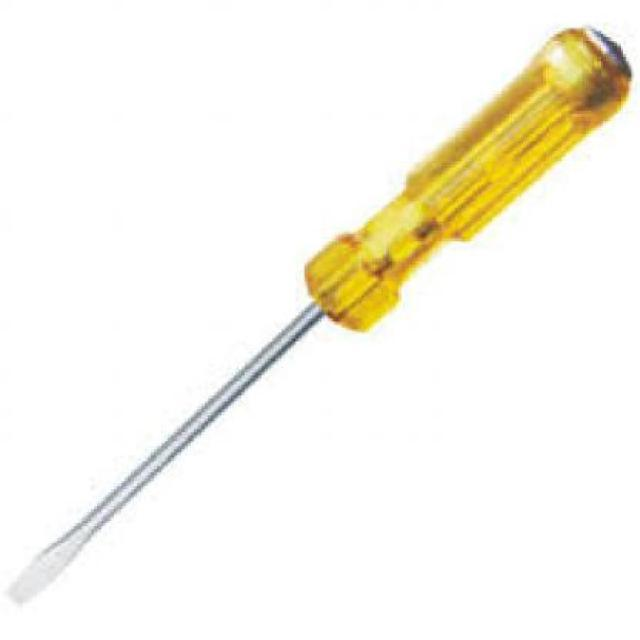screwdriver: (2, 28, 635, 618)
